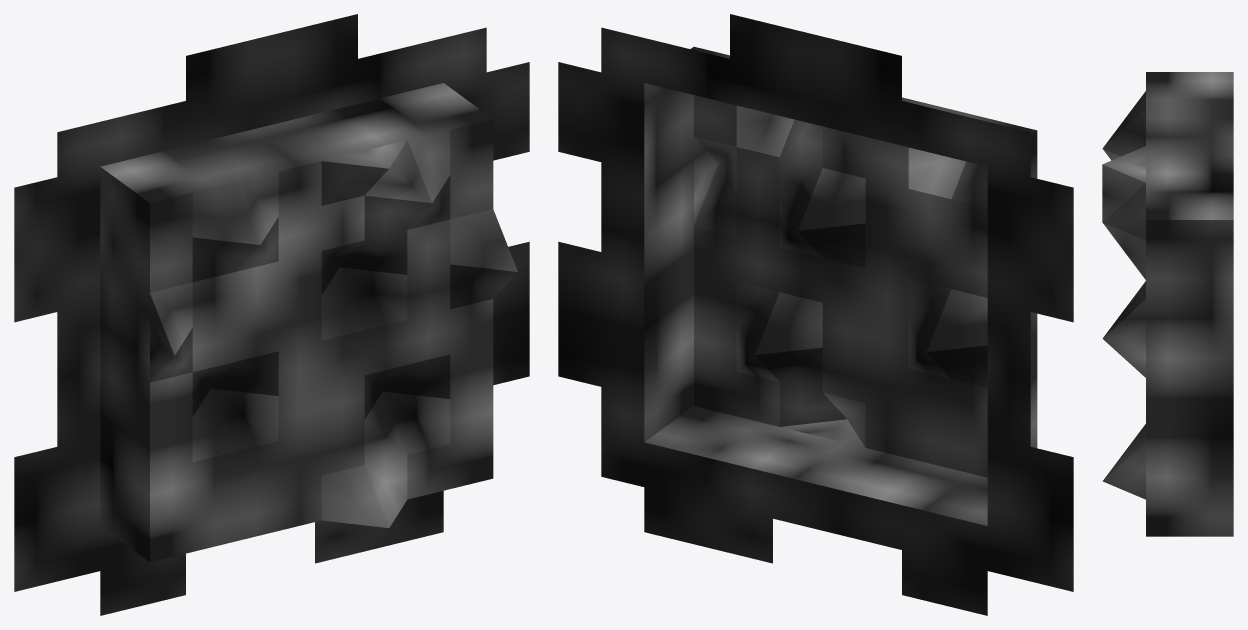
Rendered from tile_basalt.fbx.
The picture shows the model from 3 angles, left to right: view 1: azimuth 30°, elevation 25°; view 2: azimuth 150°, elevation 25°; view 3: azimuth 270°, elevation 25°; orthographic projection. The views are drawn at different scales.
Parts seen in each view (by area): view 1: tile_basalt; view 2: tile_basalt; view 3: tile_basalt.
Boxes of the visible parts, bbox=[...] form: tile_basalt: bbox=[14, 14, 529, 615]; tile_basalt: bbox=[558, 14, 1073, 615]; tile_basalt: bbox=[1102, 72, 1233, 536].
Bounding box in the file's own units: 0.375 × 1.5 × 1.5.
